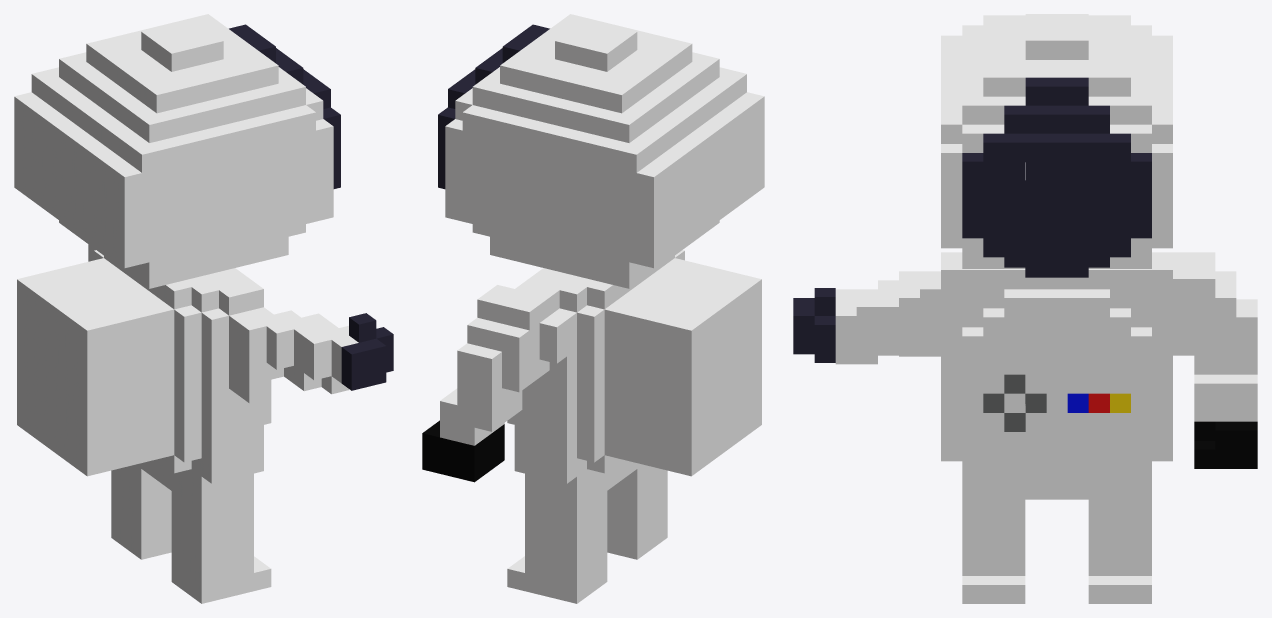
File: Starman.glb
The picture shows the model from 3 angles, left to right: view 1: azimuth 30°, elevation 25°; view 2: azimuth 150°, elevation 25°; view 3: azimuth 270°, elevation 25°; orthographic projection. The views are drawn at different scales.
Parts seen in each view (by area): view 1: Mesh_0, Mesh_4, Mesh_5, Mesh_1, Mesh_6, Mesh_2, Mesh_7, Mesh_3; view 2: Mesh_2, Mesh_6, Mesh_7, Mesh_3, Mesh_0, Mesh_4, Mesh_1; view 3: Mesh_3, Mesh_7, Mesh_1, Mesh_5, Mesh_6, Mesh_4.
Part boxes in pixels (x1,y1,x2,y2): Mesh_0: (67, 295, 228, 603); Mesh_4: (84, 68, 228, 312); Mesh_5: (189, 51, 376, 342); Mesh_1: (219, 307, 393, 599); Mesh_6: (14, 27, 188, 294); Mesh_2: (17, 246, 171, 559); Mesh_7: (139, 14, 310, 75); Mesh_3: (88, 244, 171, 555); Mesh_2: (539, 273, 741, 603); Mesh_6: (549, 27, 724, 312); Mesh_7: (438, 19, 619, 330); Mesh_3: (422, 317, 559, 599); Mesh_0: (620, 250, 761, 559); Mesh_4: (637, 31, 764, 272); Mesh_1: (607, 482, 619, 555); Mesh_3: (1025, 271, 1257, 603); Mesh_7: (1025, 23, 1215, 297); Mesh_1: (793, 271, 1025, 603); Mesh_5: (814, 42, 1025, 315); Mesh_6: (1025, 14, 1172, 80); Mesh_4: (941, 15, 1025, 80).
Bounding box in the file's own units: 0.3432 × 0.7109 × 0.5393.
Materials: 1 (1 with a texture image).
